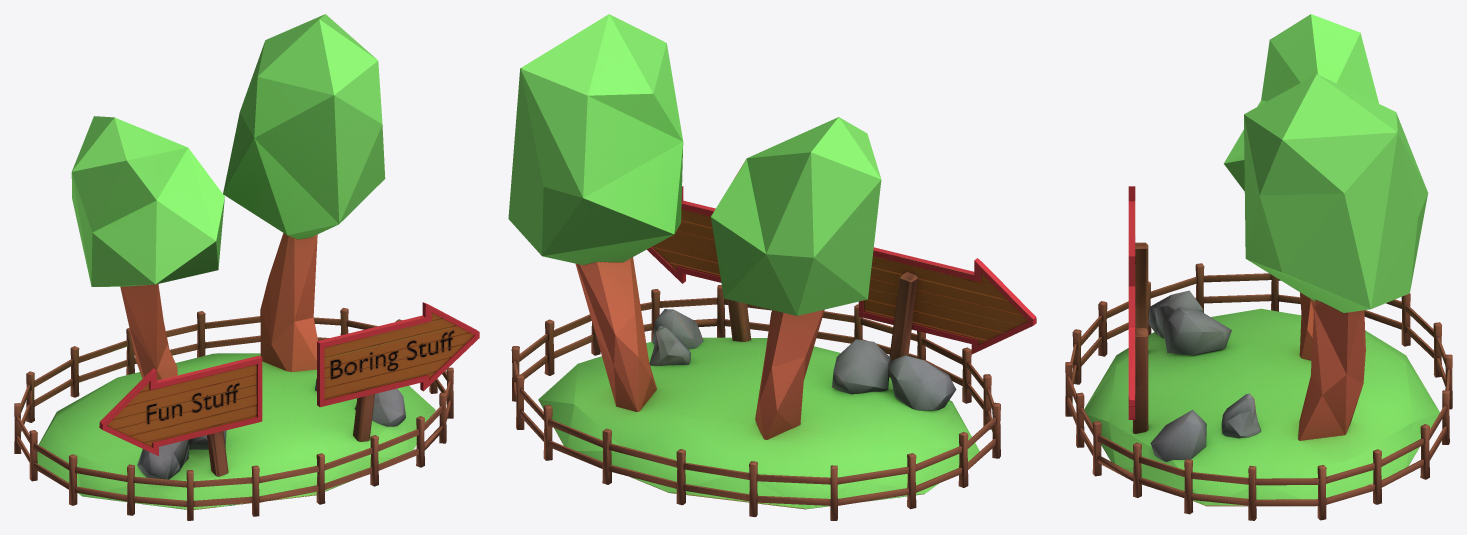
Rendered from mound.glb.
3 renders of one model, left to right at view 1: azimuth 30°, elevation 25°; view 2: azimuth 150°, elevation 25°; view 3: azimuth 270°, elevation 25°, orthographic. The views are drawn at different scales.
Parts seen in each view (by area): view 1: rock.004; view 2: rock.004; view 3: rock.004.
Boxes of the visible parts, bbox=[...] form: rock.004: bbox=[14, 14, 479, 520]; rock.004: bbox=[508, 14, 1036, 520]; rock.004: bbox=[1065, 14, 1452, 520].
Bounding box in the file's own units: 7.99 × 7.17 × 6.28.
Materials: 1 (1 with a texture image).
